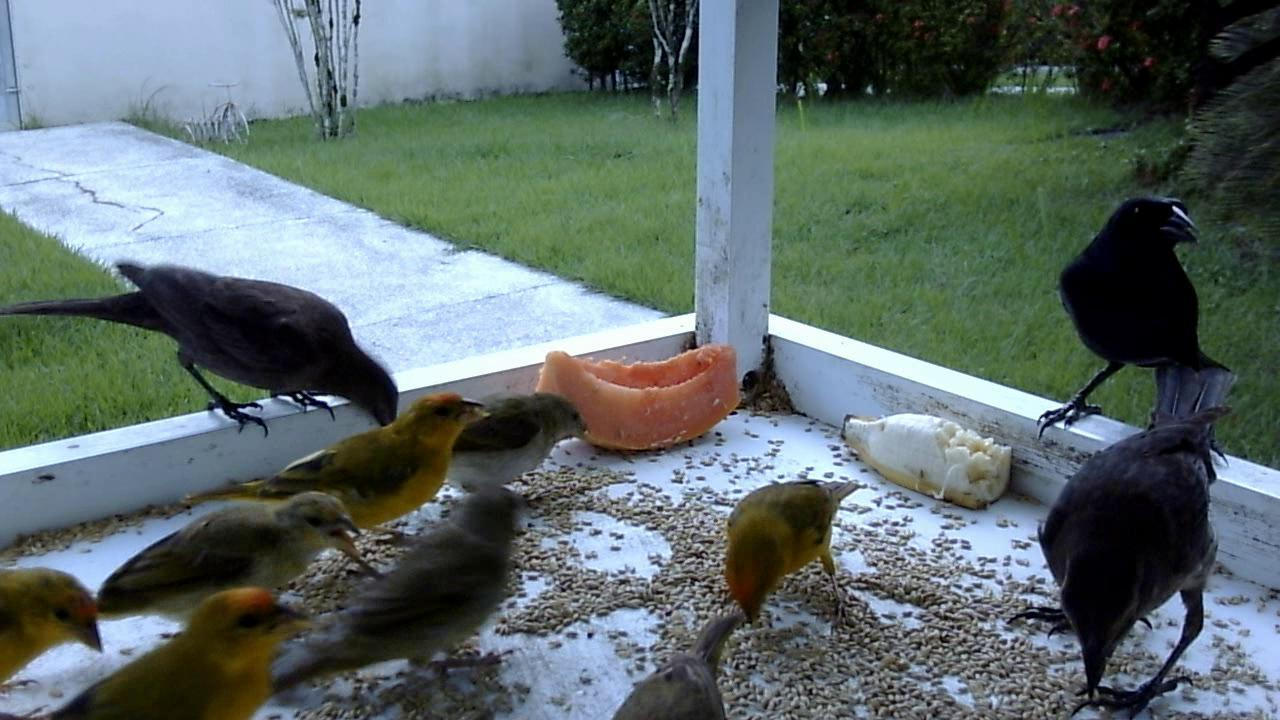canario_do_amazonas: (273, 488, 520, 716), (211, 389, 496, 565), (97, 478, 378, 634), (28, 586, 337, 720), (696, 472, 868, 645), (599, 601, 751, 720), (444, 387, 589, 501), (1, 556, 110, 702)
chupim: (6, 237, 401, 461), (996, 385, 1242, 720), (1029, 185, 1237, 464)
